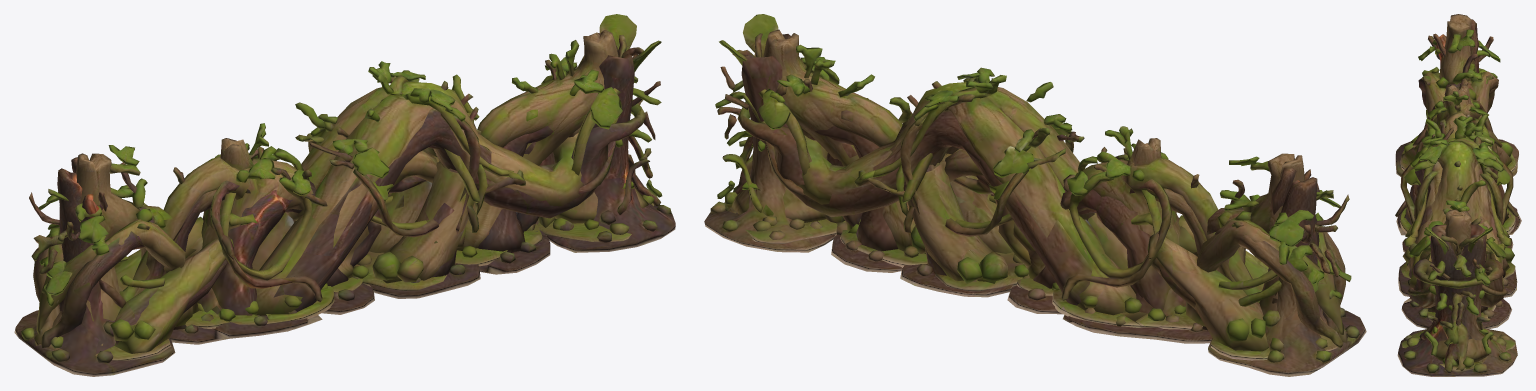
The model's file is enredadera.glb.
3 renders of one model, left to right at view 1: azimuth 30°, elevation 25°; view 2: azimuth 150°, elevation 25°; view 3: azimuth 270°, elevation 25°, orthographic. The views are drawn at different scales.
Parts seen in each view (by area): view 1: viva, quemada; view 2: viva, quemada; view 3: viva, quemada.
Part boxes in pixels (left/top/right/bottom): viva: left=36, top=14, right=662, bottom=360; quemada: left=14, top=33, right=675, bottom=376; viva: left=715, top=14, right=1351, bottom=360; quemada: left=704, top=33, right=1366, bottom=376; viva: left=1400, top=14, right=1516, bottom=372; quemada: left=1395, top=19, right=1521, bottom=376.
Size of the model in its own units: 1 by 0.3097 by 0.2289.
Materials: 1 (1 with a texture image).
